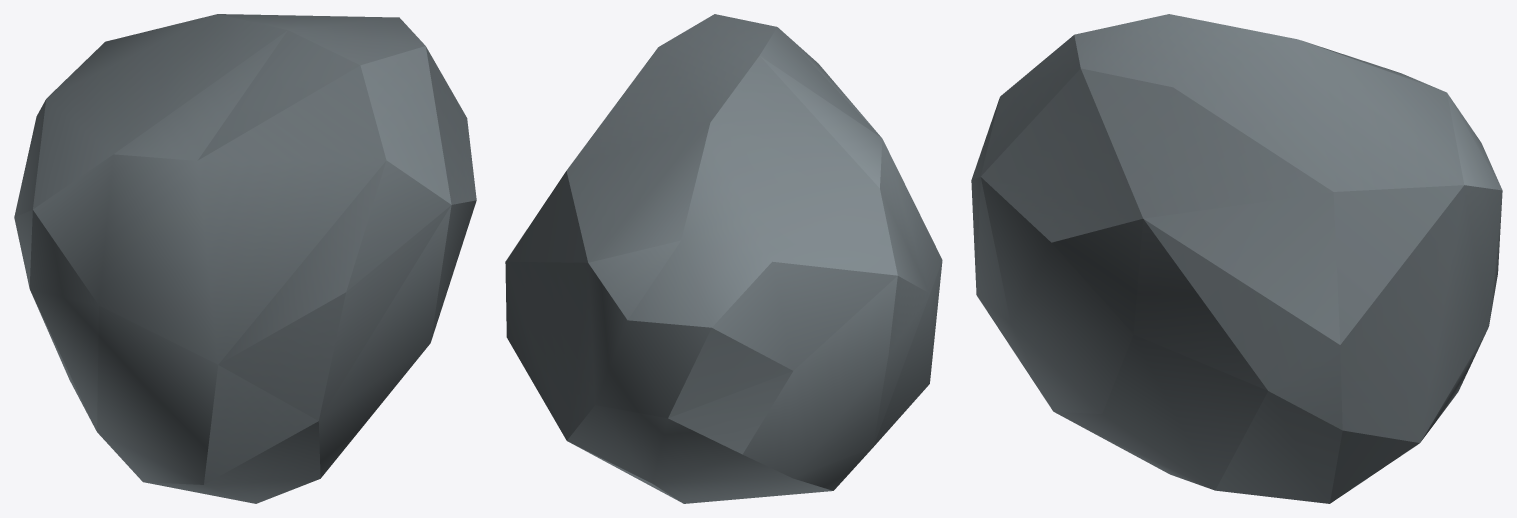
The model's file is Rock_3_F_Color1.glb.
3 views of the same model, side by side, from view 1: azimuth 30°, elevation 25°; view 2: azimuth 150°, elevation 25°; view 3: azimuth 270°, elevation 25° (orthographic). The views are drawn at different scales.
Parts seen in each view (by area): view 1: Rock_3_F_Color1; view 2: Rock_3_F_Color1; view 3: Rock_3_F_Color1.
Boxes of the visible parts, bbox=[...] form: Rock_3_F_Color1: bbox=[14, 14, 476, 503]; Rock_3_F_Color1: bbox=[505, 14, 942, 503]; Rock_3_F_Color1: bbox=[971, 14, 1502, 503].
Bounding box in the file's own units: 1.09 × 1.18 × 1.19.
1 material, 1 textured.
